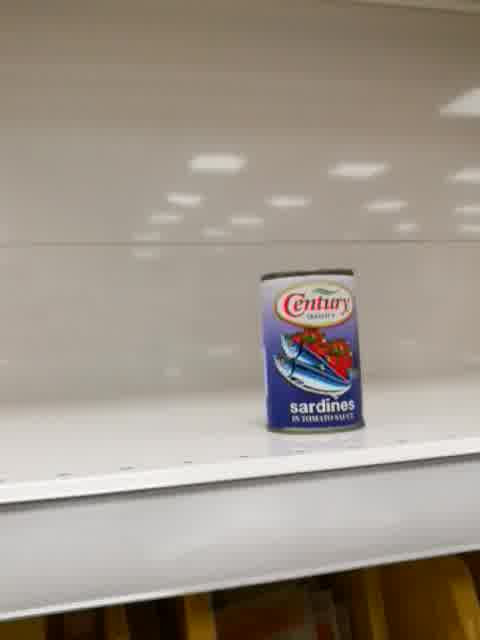sardine: (259, 268, 367, 437)
